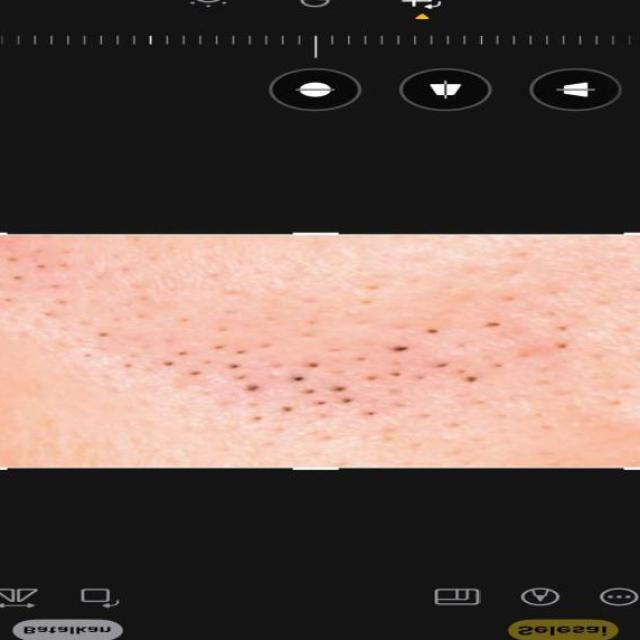blackhead: (110, 306, 575, 442)
